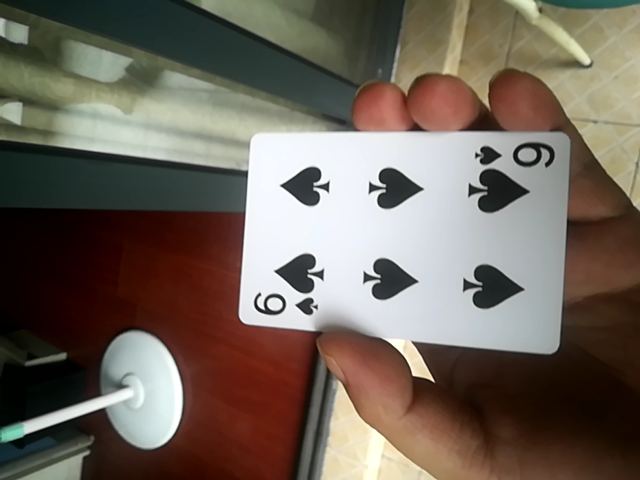ht 6: (236, 124, 579, 358)
